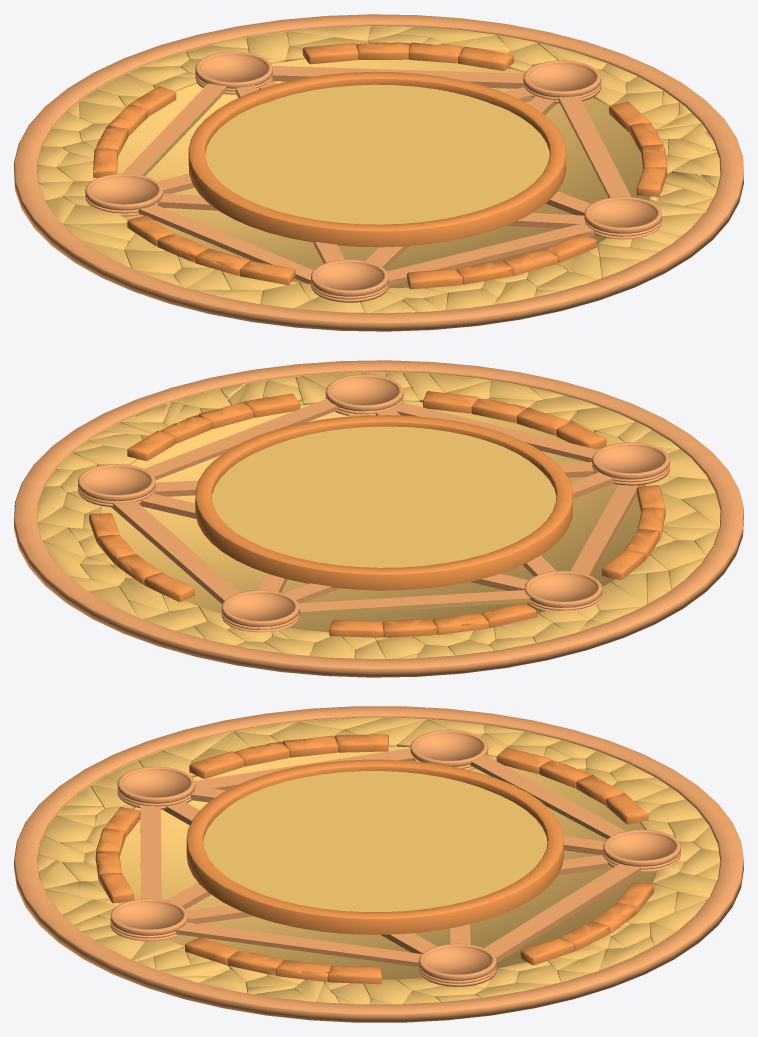
Rendered from magic.fbx.
3 renders of one model, top to bottom at view 1: azimuth 30°, elevation 25°; view 2: azimuth 150°, elevation 25°; view 3: azimuth 270°, elevation 25°, orthographic.
Parts seen in each view (by area): view 1: 淘宝店铺清悠素材, Cylinder01, Cylinder12, Box05, Cube.002, Cube.004, Cube.001, Cube, Cube.003, Cube.008, Cube.006, Cube.009 (+2 smaller); view 2: 淘宝店铺清悠素材, Cylinder01, Cylinder12, Box05, Cube, Cube.003, Cube.001, Cube.004, Cube.002, Cube.009, Cube.005, Cube.006; view 3: 淘宝店铺清悠素材, Cylinder01, Box05, Cylinder12, Cube.001, Cube.003, Cube, Cube.002, Cube.007, Cube.004, Cube.006, Cube.005 (+1 smaller).
Part boxes in pixels (box(x1,y1,x2,y2)): 淘宝店铺清悠素材: box(37, 26, 720, 313); Cylinder01: box(14, 14, 743, 331); Cylinder12: box(188, 71, 566, 247); Box05: box(93, 42, 667, 289); Cube.002: box(387, 224, 595, 285); Cube.004: box(138, 204, 313, 283); Cube.001: box(558, 95, 630, 197); Cube: box(122, 83, 226, 176); Cube.003: box(272, 66, 523, 88); Cube.008: box(157, 193, 586, 228); Cube.006: box(365, 96, 556, 269); Cube.009: box(157, 87, 533, 193); 淘宝店铺清悠素材: box(37, 372, 720, 659); Cylinder01: box(14, 360, 743, 677); Cylinder12: box(195, 415, 572, 590); Box05: box(89, 391, 665, 637); Cube: box(298, 590, 530, 616); Cube.003: box(111, 501, 239, 603); Cube.001: box(144, 398, 338, 479); Cube.004: box(570, 484, 639, 575); Cube.002: box(394, 402, 598, 462); Cube.009: box(140, 493, 528, 590); Cube.005: box(284, 472, 614, 603); Cube.006: box(154, 462, 594, 496); 淘宝店铺清悠素材: box(37, 718, 720, 1004); Cylinder01: box(14, 706, 743, 1022); Box05: box(95, 734, 653, 984); Cylinder12: box(186, 759, 563, 934); Cube.001: box(175, 922, 421, 966); Cube.003: box(484, 864, 641, 962); Cube: box(470, 755, 625, 838); Cube.002: box(140, 805, 161, 899); Cube.007: box(186, 855, 607, 923); Cube.004: box(194, 748, 414, 790); Cube.006: box(163, 801, 436, 953); Cube.005: box(190, 786, 604, 855).
Size of the model in its own units: 224 by 10.75 by 225.
